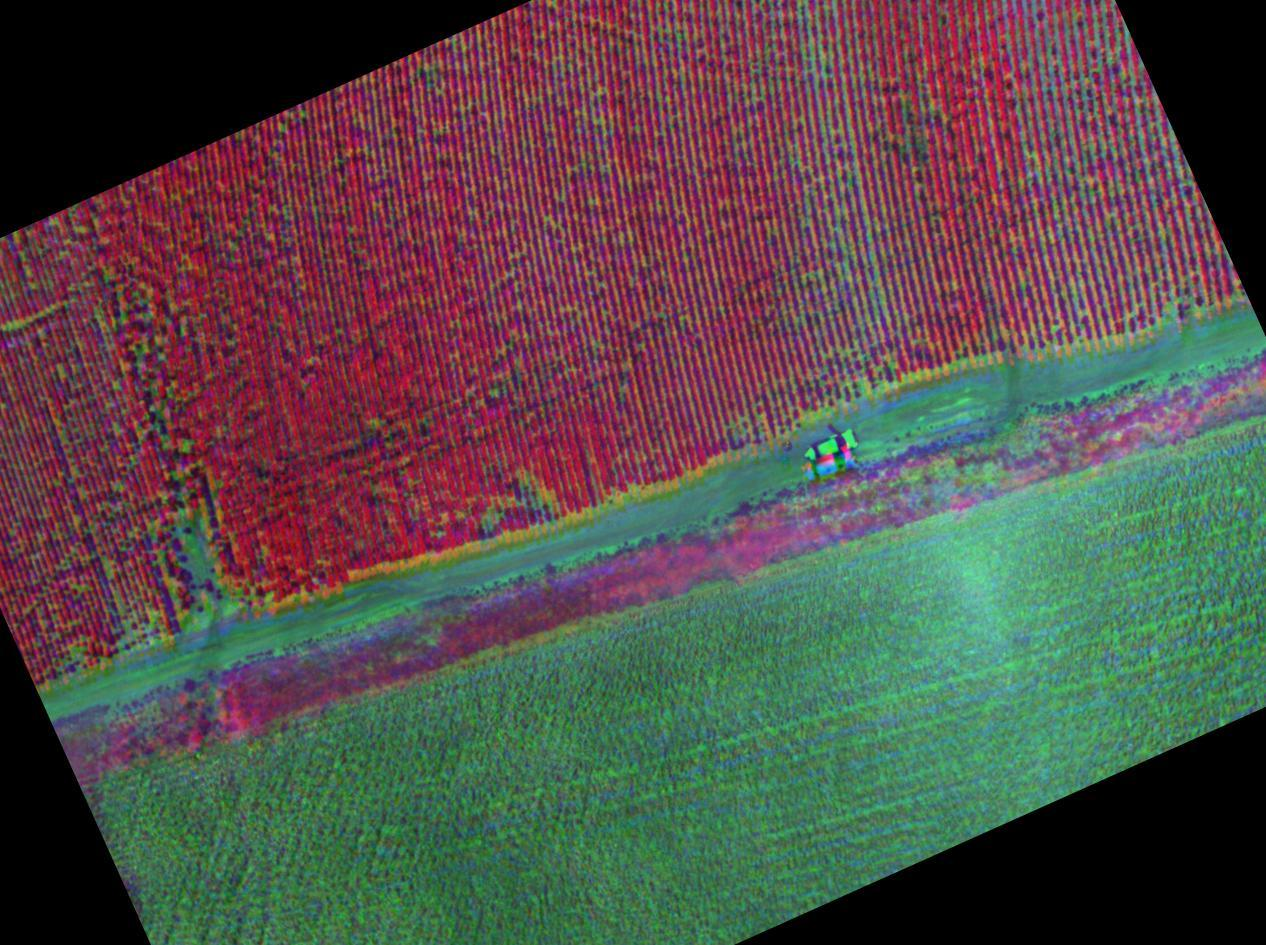dc: (128, 454, 264, 617), (733, 347, 917, 428), (864, 88, 963, 187), (454, 460, 577, 537)
